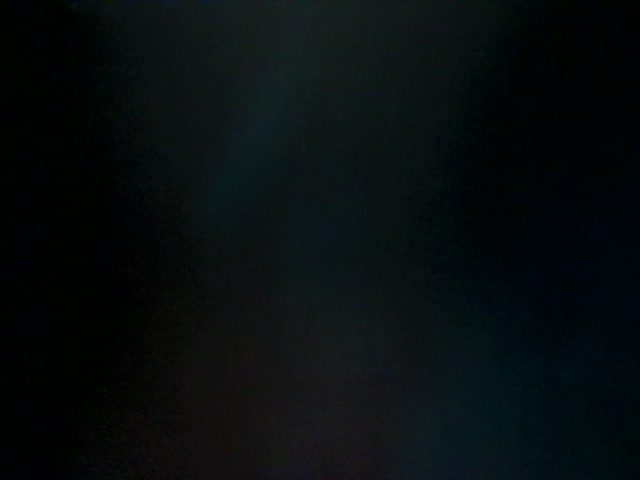YHLJ: (256, 198, 359, 270)
